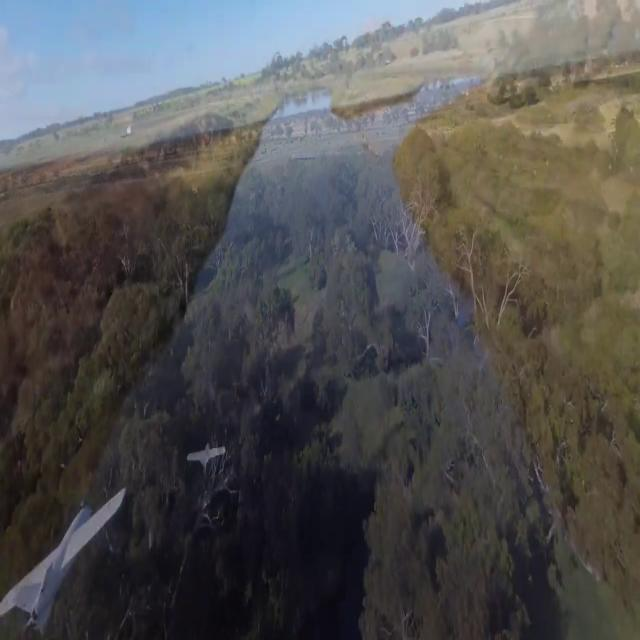iha: (0, 487, 31, 618)
